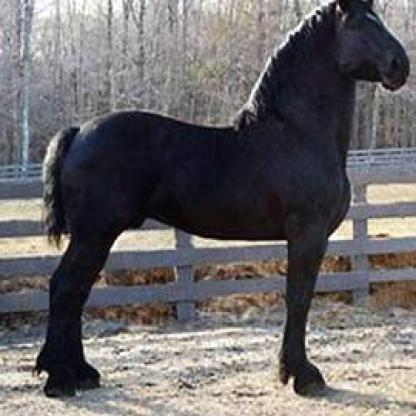horse: (26, 0, 412, 403)
